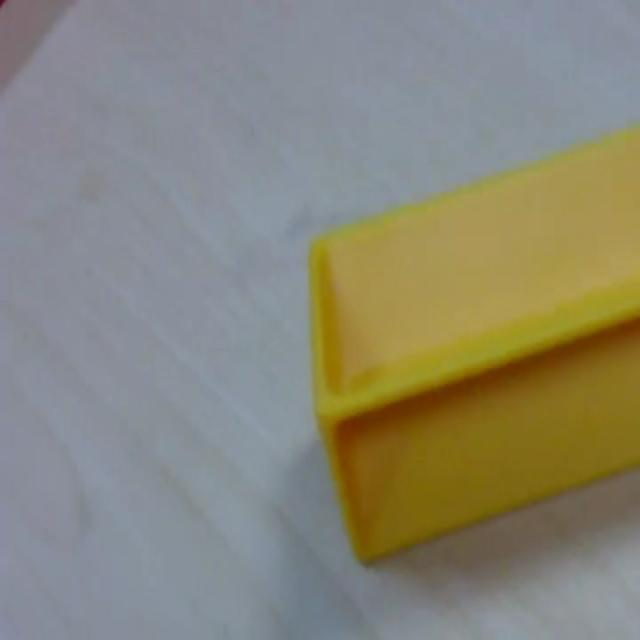red_block: (307, 120, 638, 565)
